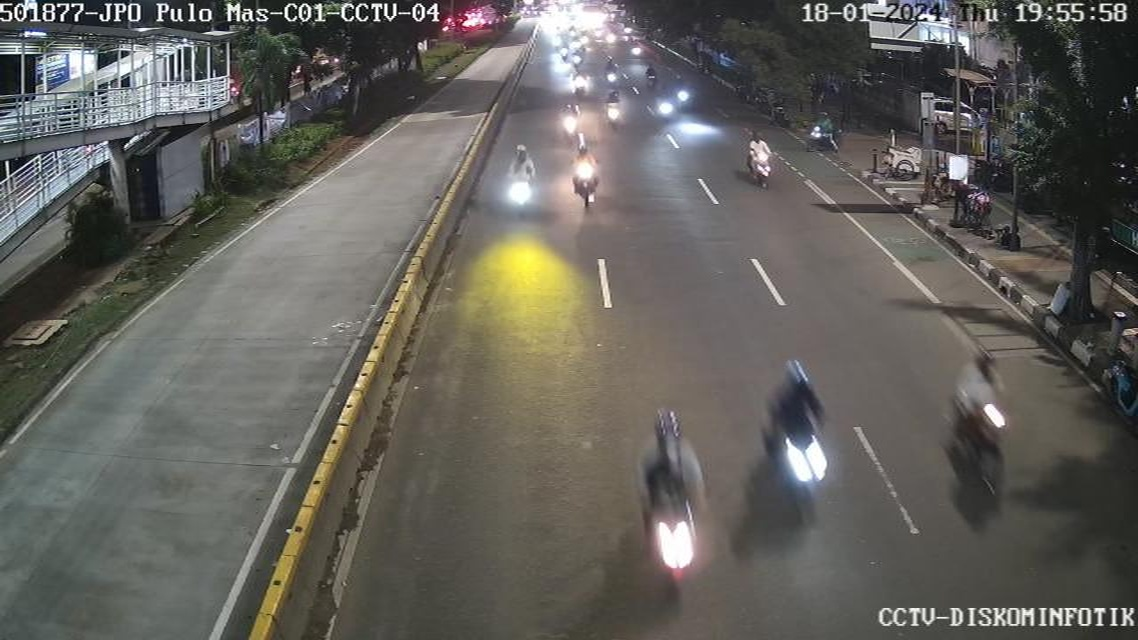Gerobak: (941, 159, 999, 266), (862, 126, 923, 198)
